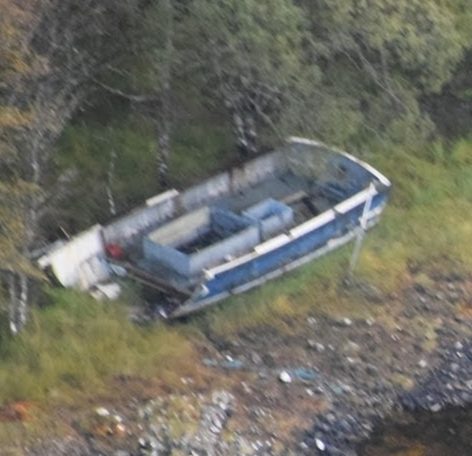boat_cabin: (16, 131, 401, 322)
scattered_barrel: (201, 348, 333, 456)
